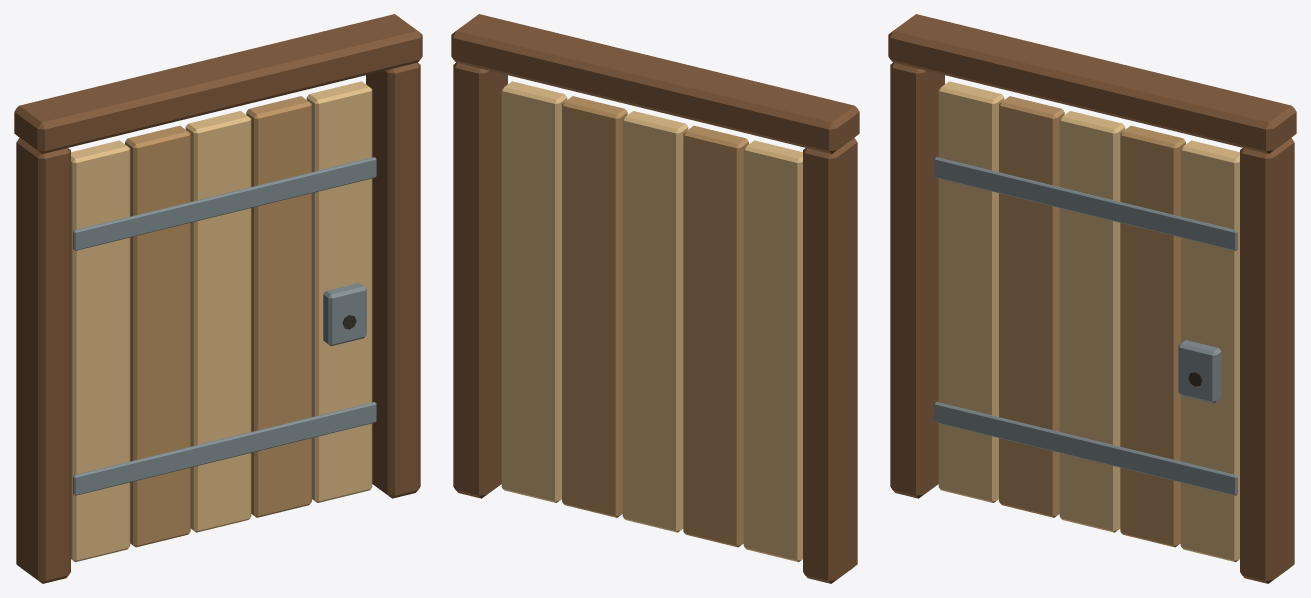
File: CC_LockedDoor.fbx
3 views of the same model, side by side, from view 1: azimuth 30°, elevation 25°; view 2: azimuth 150°, elevation 25°; view 3: azimuth 330°, elevation 25° (orthographic).
Visible parts, largest first — view 1: Frame post.004, Door board.002, Door board.001, Door board.003, Door board, Lintel.002, Frame post.005, Door board.004, Iron band.001, Iron band, Lock box; view 2: Door board.002, Door board.004, Door board.001, Door board.003, Door board, Frame post.004, Lintel.002, Frame post.005; view 3: Frame post.005, Door board.002, Door board, Door board.001, Door board.003, Lintel.002, Frame post.004, Door board.004, Iron band.001, Iron band, Lock box.
Part boxes in pixels (x1,y1,x2,y2): Frame post.004: [16, 138, 70, 583]; Door board.002: [185, 111, 251, 532]; Door board.001: [125, 125, 190, 547]; Door board.003: [246, 96, 311, 517]; Door board: [71, 140, 130, 562]; Lintel.002: [14, 14, 422, 153]; Frame post.005: [366, 62, 420, 498]; Door board.004: [306, 81, 372, 502]; Iron band.001: [73, 157, 376, 250]; Iron band: [73, 402, 376, 495]; Lock box: [323, 283, 366, 346]; Door board.002: [622, 111, 688, 532]; Door board.004: [501, 81, 567, 502]; Door board.001: [683, 125, 748, 547]; Door board.003: [562, 96, 627, 517]; Door board: [743, 140, 802, 562]; Frame post.004: [803, 138, 857, 583]; Lintel.002: [451, 14, 859, 153]; Frame post.005: [453, 62, 507, 498]; Frame post.005: [1240, 138, 1294, 583]; Door board.002: [1059, 111, 1125, 532]; Door board: [938, 81, 1004, 502]; Door board.001: [999, 96, 1064, 517]; Door board.003: [1120, 125, 1185, 547]; Lintel.002: [888, 14, 1296, 153]; Frame post.004: [890, 62, 944, 498]; Door board.004: [1180, 140, 1239, 562]; Iron band.001: [934, 157, 1237, 250]; Iron band: [934, 402, 1237, 495]; Lock box: [1178, 340, 1221, 403].
Size of the model in its own units: 2.8 by 3.21 by 0.36.
